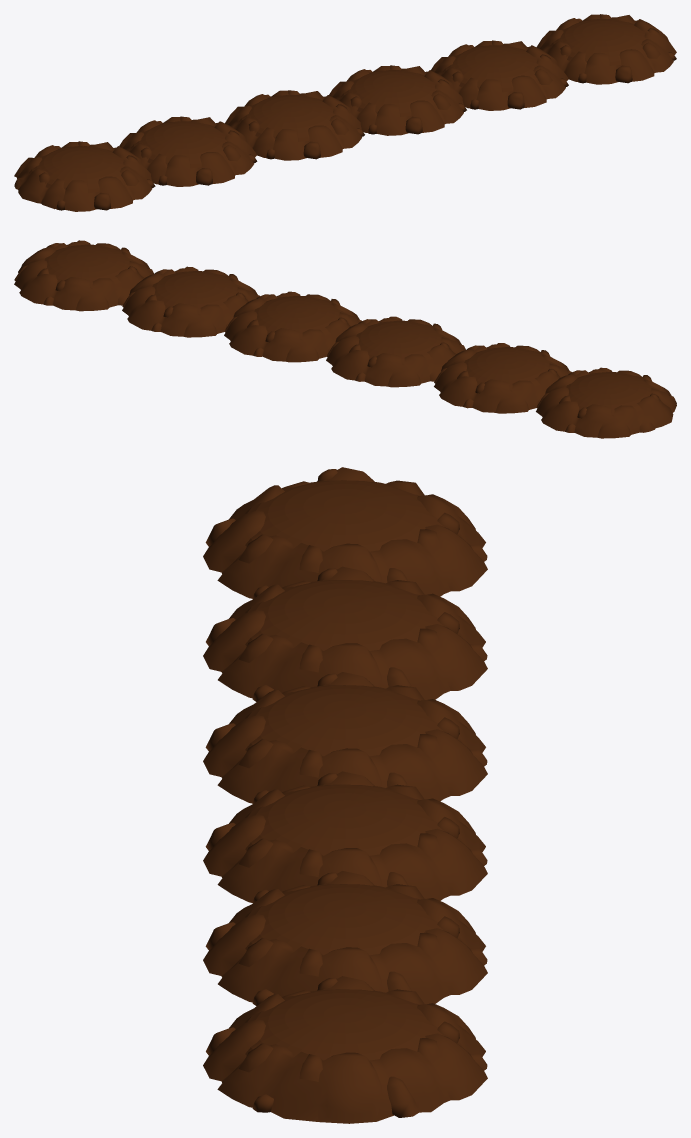
File: Soil 1.fbx
3 renders of one model, top to bottom at view 1: azimuth 30°, elevation 25°; view 2: azimuth 150°, elevation 25°; view 3: azimuth 270°, elevation 25°, orthographic. The views are drawn at different scales.
Visible parts, largest first — view 1: Soil; view 2: Soil; view 3: Soil.
Boxes of the visible parts, left/top/right/bottom form: Soil: left=14, top=14, right=676, bottom=211; Soil: left=14, top=240, right=676, bottom=438; Soil: left=203, top=467, right=487, bottom=1123.
Size of the model in its own units: 565 by 20.34 by 108.
